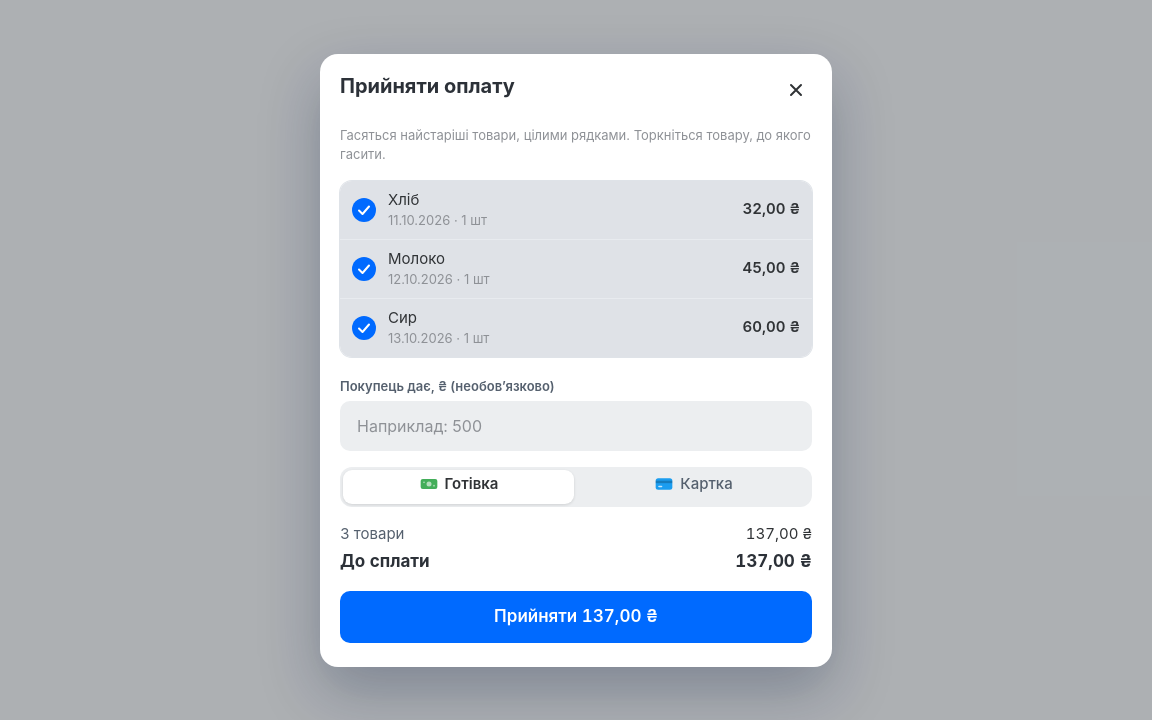
Test: PaySheet › on a backend older than 078, turns what the customer holds out into whole lines and change
This screenshot has width=1152, height=720.
Type "100" into the field with placeholder "Наприклад: 500".
click(576, 426); type("100")  # box [340,400,812,450]
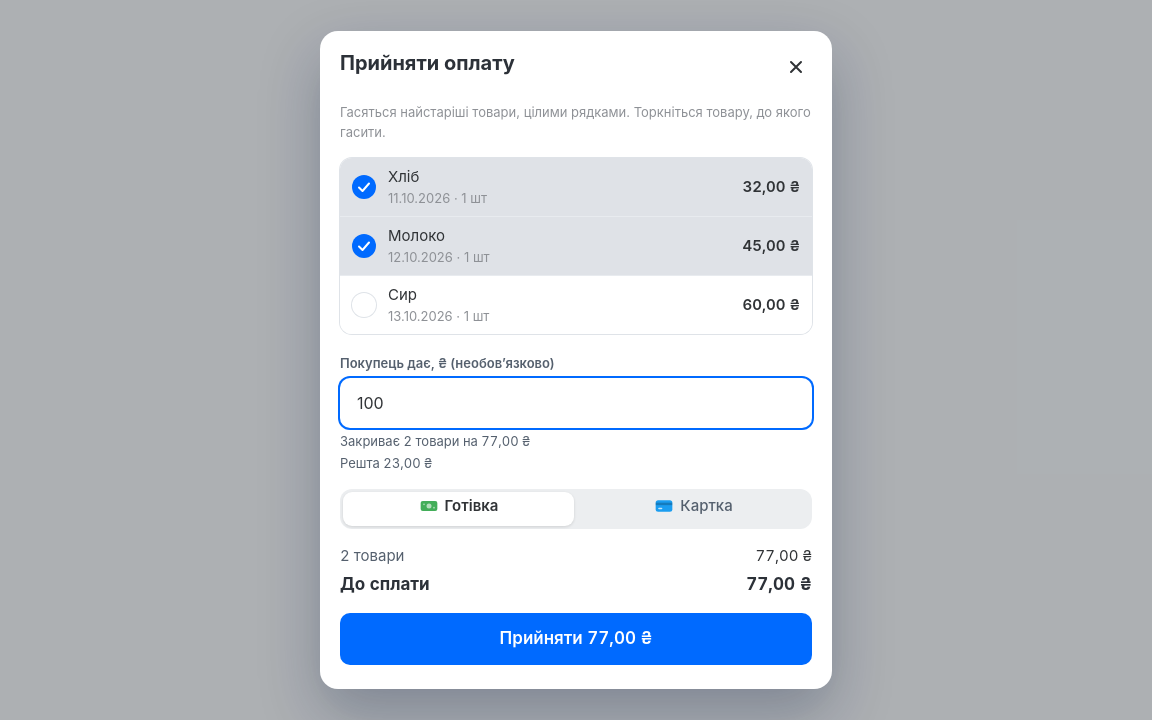
Clear the field with placeholder "Наприклад: 500" at (576, 403), box [340,378,812,428]
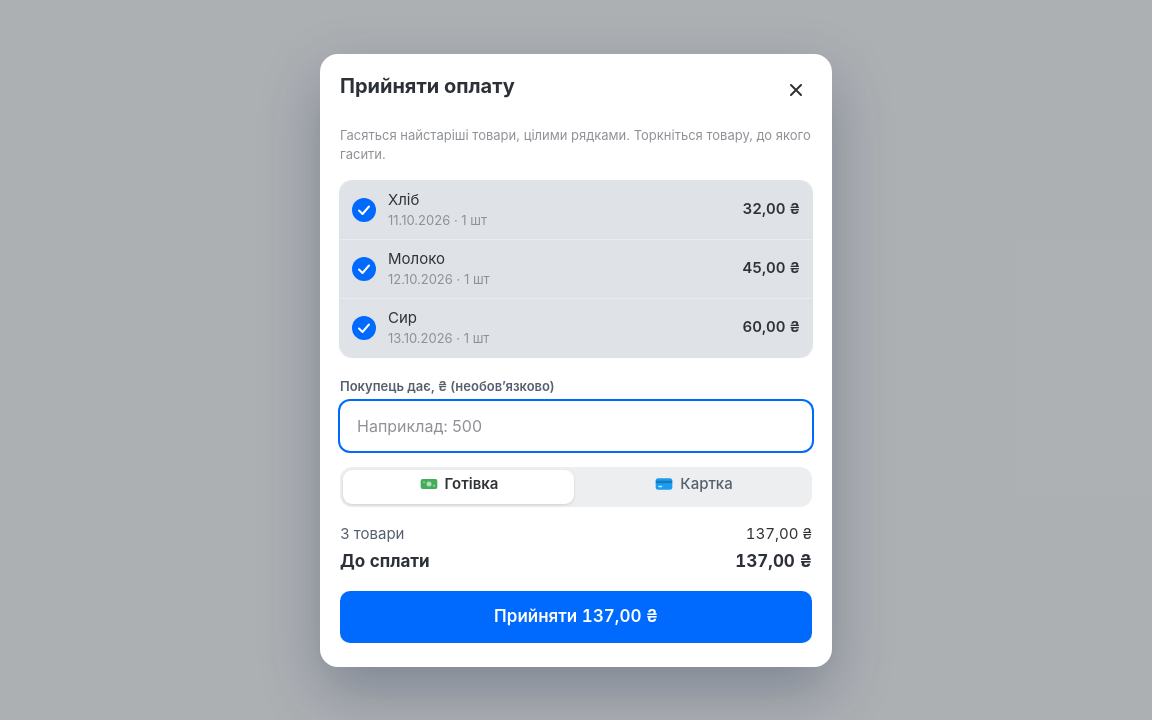
Type "20" into the field with placeholder "Наприклад: 500".
click(576, 426); type("20")  # box [340,400,812,450]
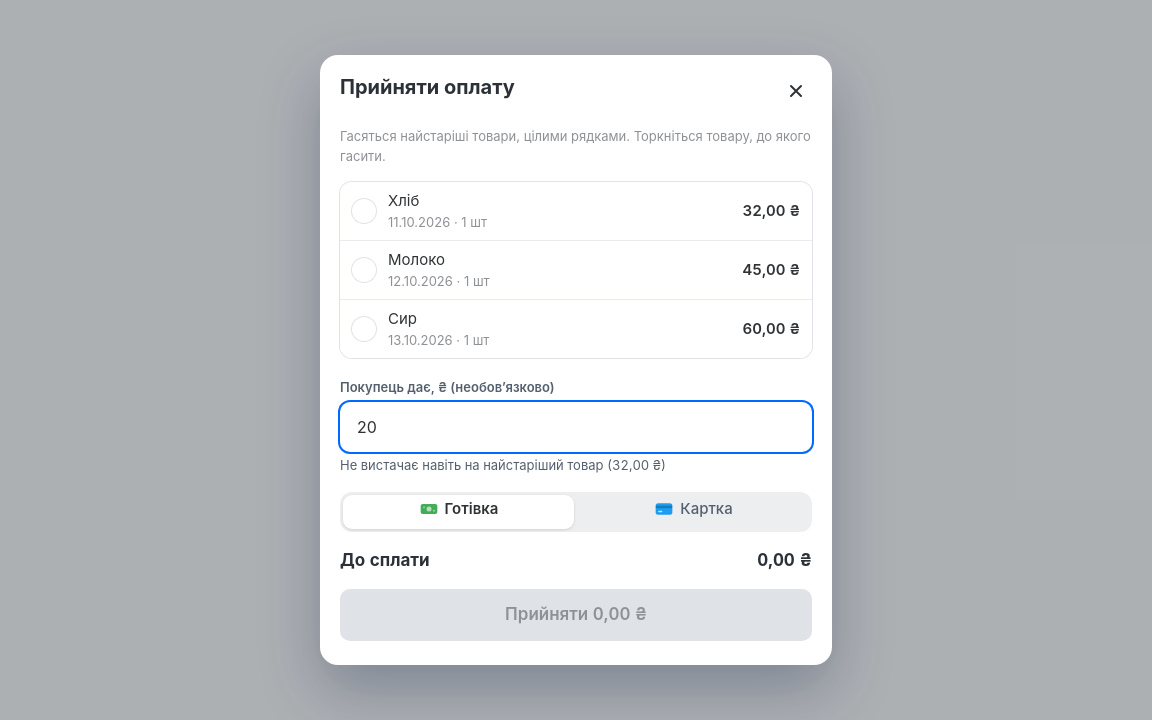
Now the element with test id "debts-pay-offer" shows "Не вистачає навіть на найстаріший товар", box [340,457,666,473]
Now the button "Прийняти 0,00 ₴" is disabled, box [340,589,812,641]
